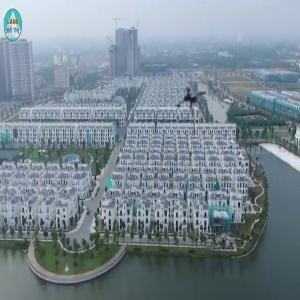drone: (145, 55, 242, 152)
